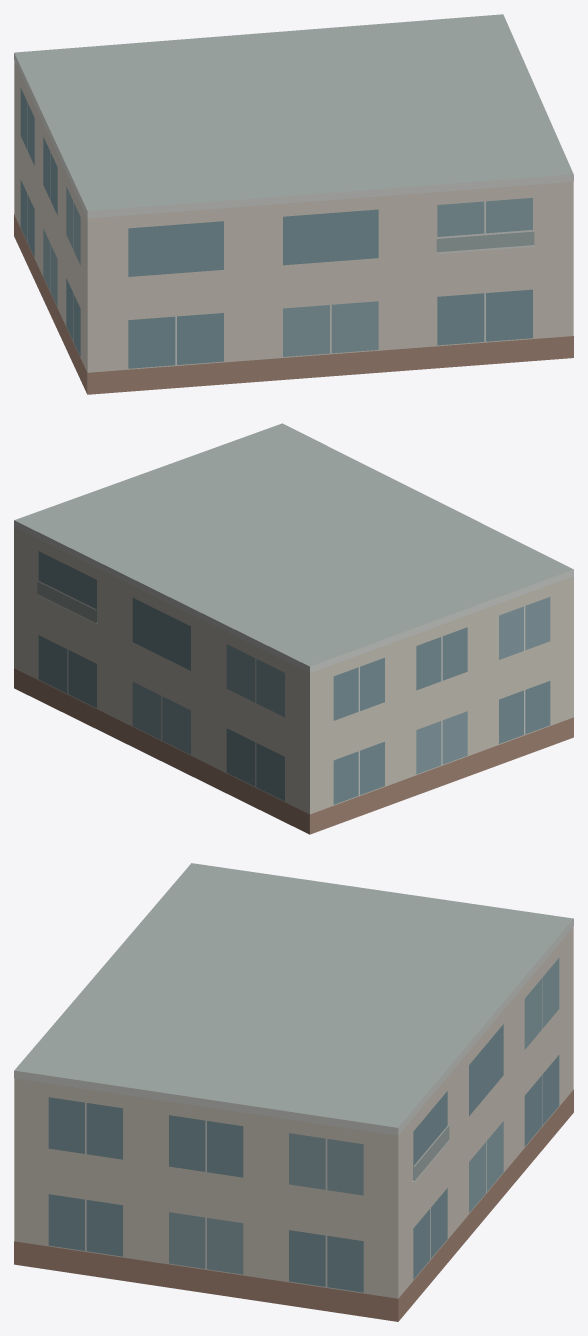
The model's file is survey-upis-32943286.glb.
The picture shows the model from 3 angles, top to bottom: view 1: azimuth 30°, elevation 25°; view 2: azimuth 150°, elevation 25°; view 3: azimuth 270°, elevation 25°; orthographic projection. The views are drawn at different scales.
Visible parts, largest first — view 1: survey-upis-32943286.tmp; view 2: survey-upis-32943286.tmp; view 3: survey-upis-32943286.tmp.
Boxes of the visible parts, box(x1,y1,x2,y2) form: survey-upis-32943286.tmp: box(14, 14, 573, 394); survey-upis-32943286.tmp: box(14, 423, 573, 834); survey-upis-32943286.tmp: box(14, 863, 573, 1321).
Size of the model in its own units: 17.88 by 6.1 by 15.96.
